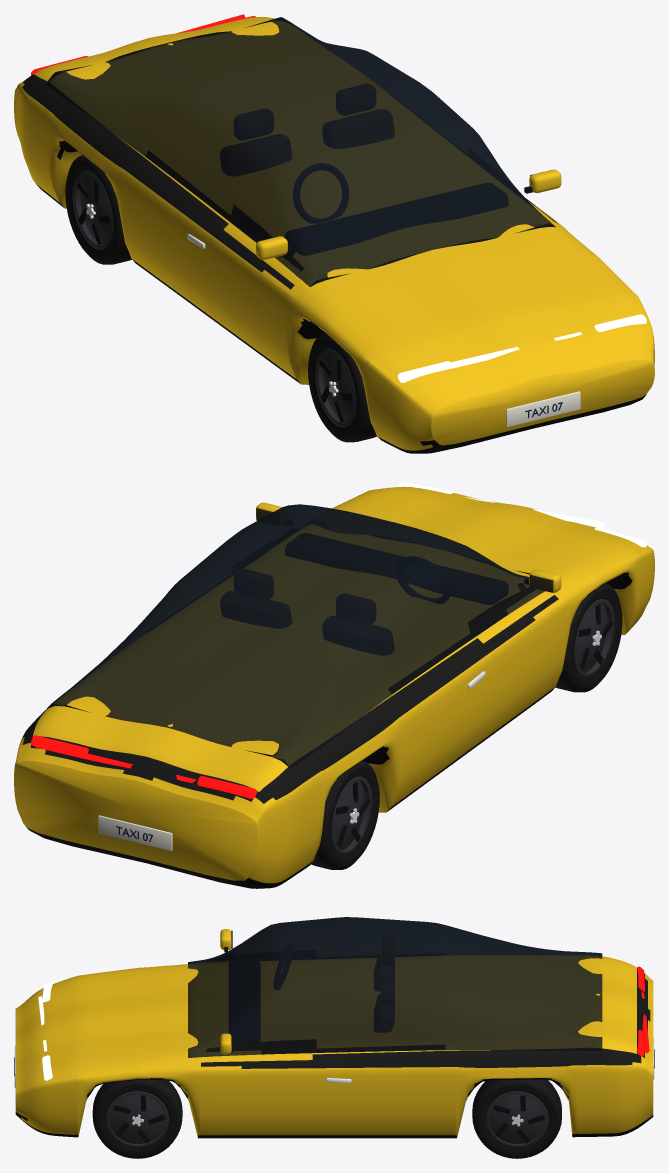
The model's file is taxi_crafter.glb.
3 renders of one model, top to bottom at view 1: azimuth 30°, elevation 25°; view 2: azimuth 150°, elevation 25°; view 3: azimuth 270°, elevation 25°, orthographic. The views are drawn at different scales.
Parts seen in each view (by area): view 1: body, wheel_FL, wheel_RL; view 2: body, wheel_RL, wheel_FL; view 3: body, wheel_RR, wheel_FR.
Boxes of the visible parts, x1,y1,x2,y2 form: body: (14,14,654,453); wheel_FL: (308,332,376,442); wheel_RL: (65,155,131,264); body: (14,482,654,888); wheel_RL: (311,760,379,869); wheel_FL: (555,583,622,692); body: (14,917,654,1138); wheel_RR: (472,1079,561,1158); wheel_FR: (92,1079,182,1158).
Size of the model in its own units: 2.13 by 1.43 by 5.
